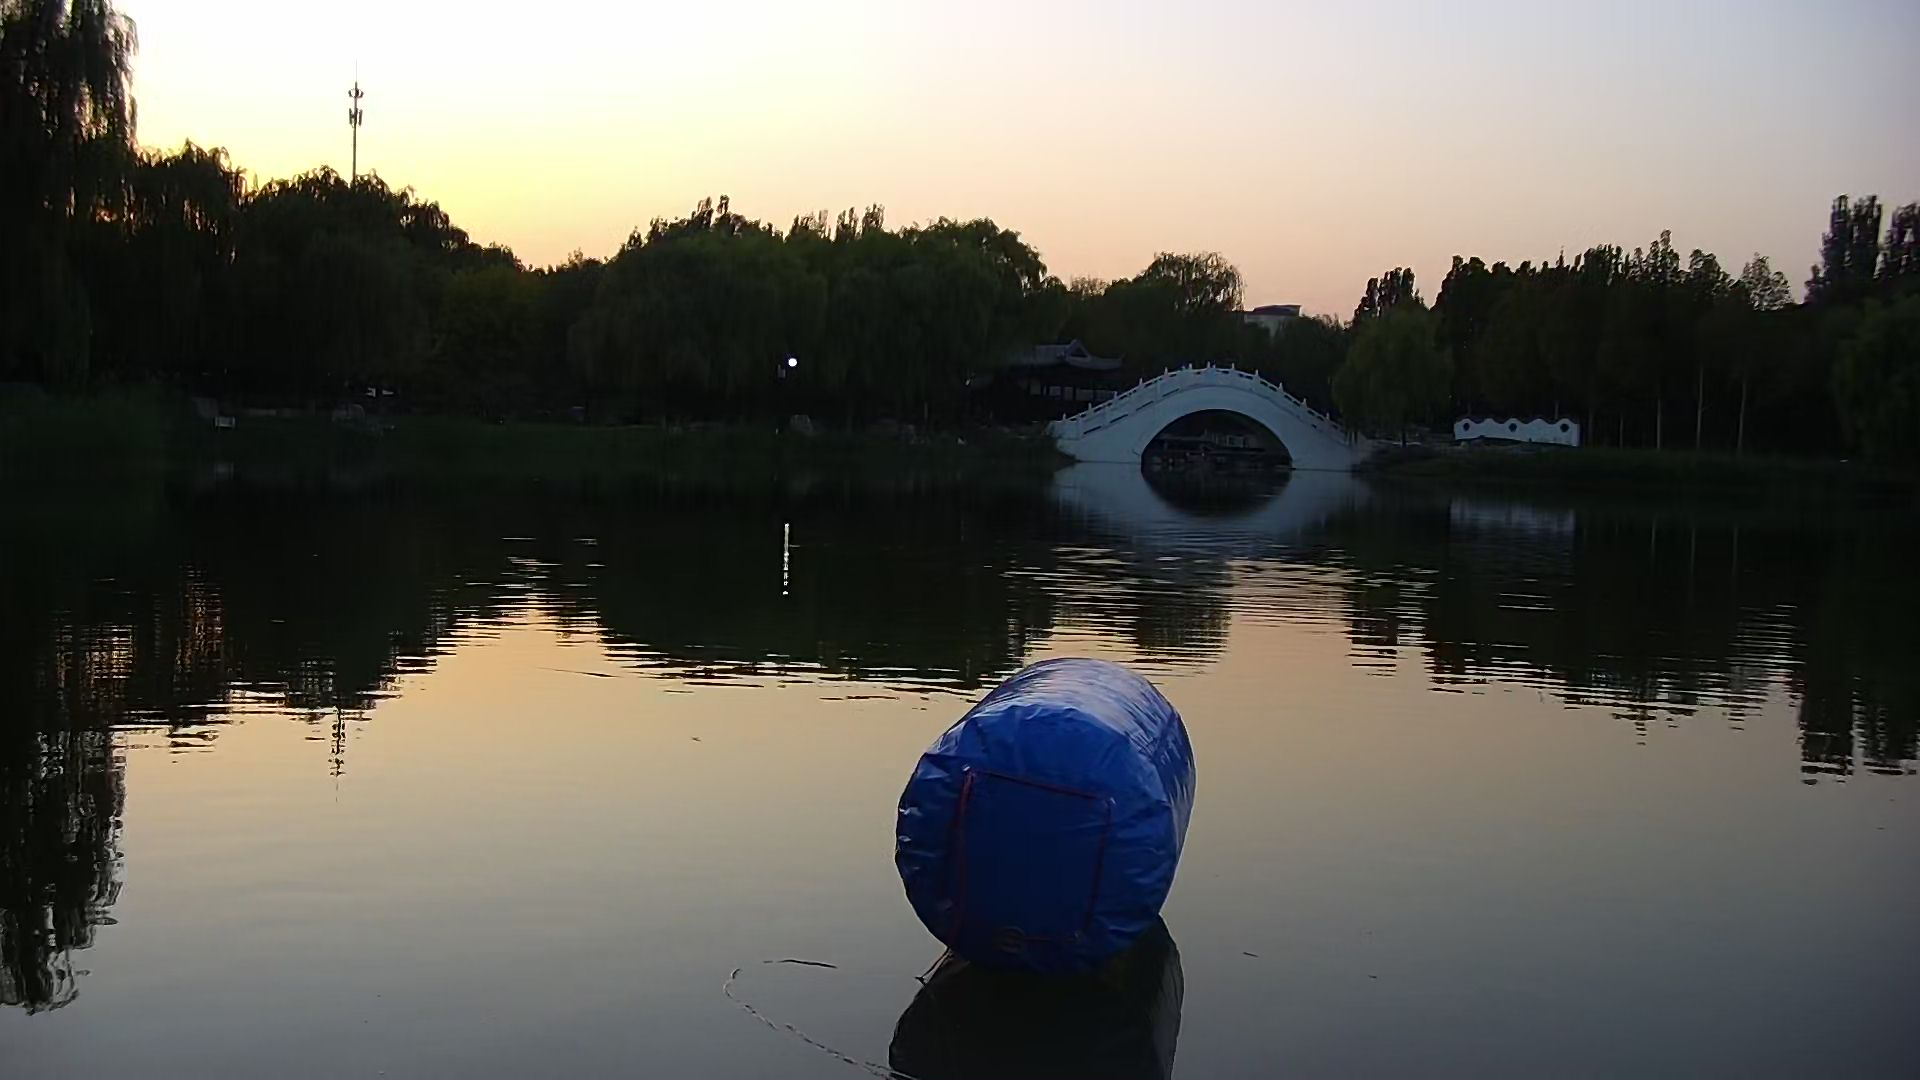bridge: (1033, 357, 1393, 483)
rubbish: (895, 651, 1196, 960)
